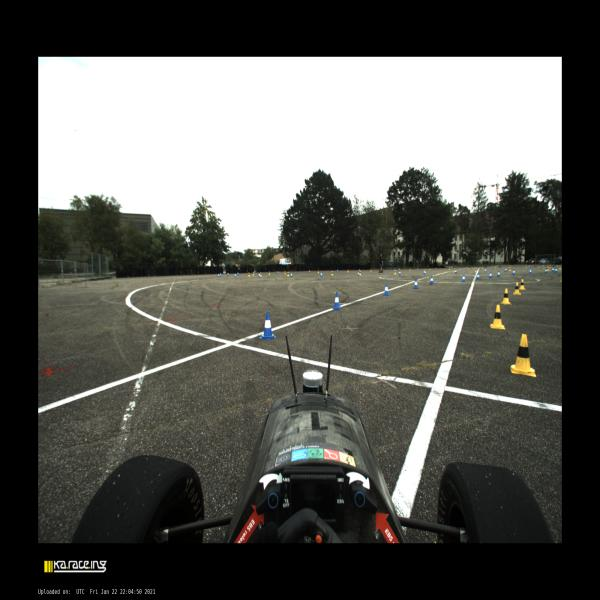blue_cone: (259, 312, 277, 340), (333, 292, 341, 310), (383, 284, 390, 296), (414, 279, 418, 289), (461, 275, 466, 282), (430, 276, 434, 284), (476, 273, 480, 280), (489, 272, 492, 279), (529, 267, 532, 274), (497, 271, 500, 277), (504, 267, 507, 273), (551, 267, 554, 272), (512, 270, 515, 274), (545, 268, 547, 274), (555, 267, 557, 273), (290, 272, 292, 278), (423, 270, 426, 274), (258, 272, 260, 277), (358, 271, 360, 276), (399, 270, 401, 275), (454, 269, 456, 274), (218, 273, 220, 277), (451, 266, 453, 270), (479, 266, 481, 270), (227, 273, 229, 276), (237, 272, 239, 275), (321, 272, 322, 277), (485, 268, 486, 273), (435, 268, 437, 270), (492, 266, 494, 268), (220, 273, 221, 276), (235, 274, 236, 277), (337, 269, 338, 272), (557, 265, 558, 268), (309, 270, 310, 272), (417, 268, 418, 270), (466, 267, 467, 269), (278, 271, 278, 274)
yellow_cone: (511, 334, 536, 377), (490, 305, 505, 329), (500, 288, 512, 304), (512, 282, 520, 295), (519, 278, 525, 290), (331, 270, 333, 276), (359, 270, 361, 276), (547, 265, 549, 271), (508, 266, 510, 272), (260, 272, 262, 277), (248, 272, 250, 276), (268, 271, 270, 275), (284, 270, 286, 274), (287, 272, 289, 276), (370, 268, 372, 272), (394, 270, 396, 274), (559, 265, 561, 269), (474, 268, 476, 272), (252, 272, 254, 275), (347, 269, 349, 272), (525, 265, 527, 268), (454, 268, 455, 272), (409, 268, 411, 270), (468, 266, 469, 270), (482, 266, 483, 270), (549, 266, 551, 268), (318, 270, 319, 273), (449, 267, 450, 270), (495, 266, 496, 269), (543, 266, 544, 268), (538, 266, 539, 268), (430, 267, 430, 270)
